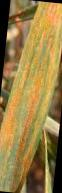Wheat: (3, 79, 45, 162)
